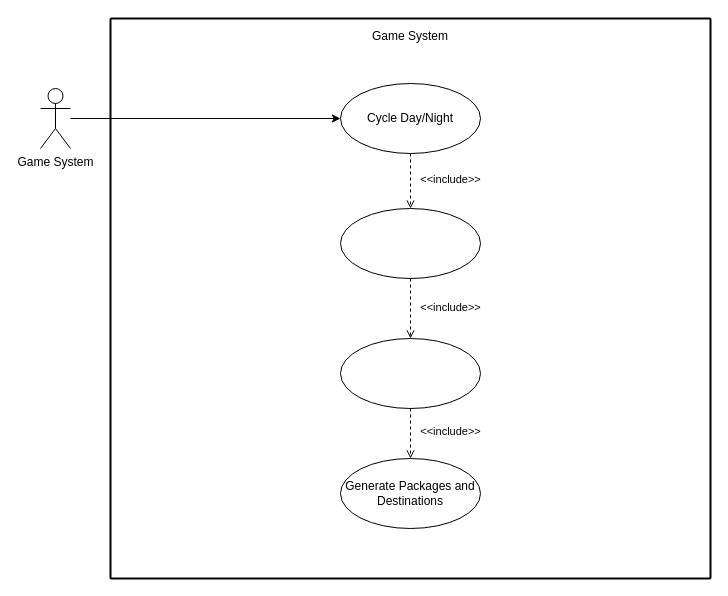
Some shapes in this 728 by 596 pixel diagram are drawn without their labels. The shapes that lost their labels are listed below. From the top down, each one's box as (x1, y1, x2, y2) in pixels, then its label:
(340, 208, 480, 278): End Day
(340, 338, 480, 408): Reset Level
